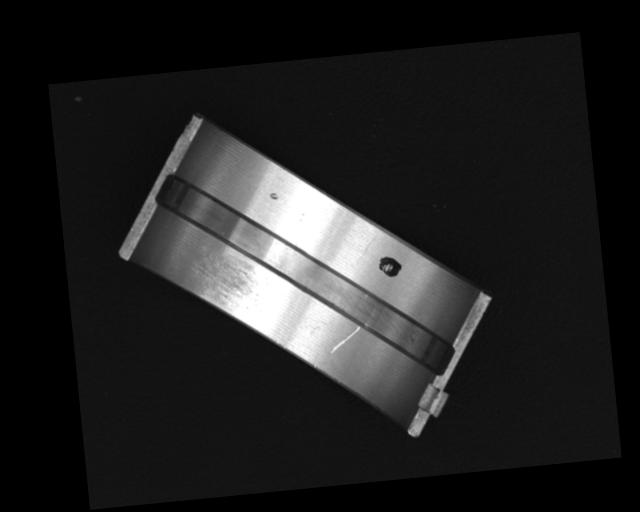blot: (376, 253, 403, 280)
bruise: (268, 191, 279, 202)
gap: (153, 152, 457, 401)
nick: (327, 324, 362, 352), (352, 235, 378, 265)
scratch: (188, 249, 270, 327)
